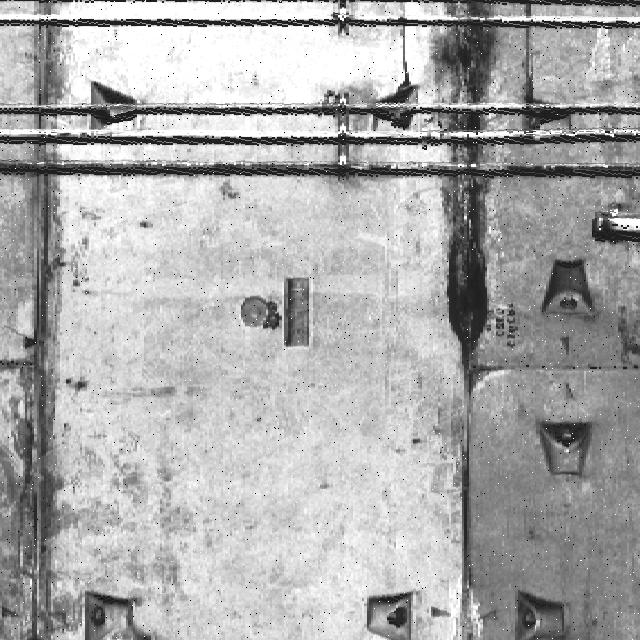leakage: (414, 1, 506, 399)
